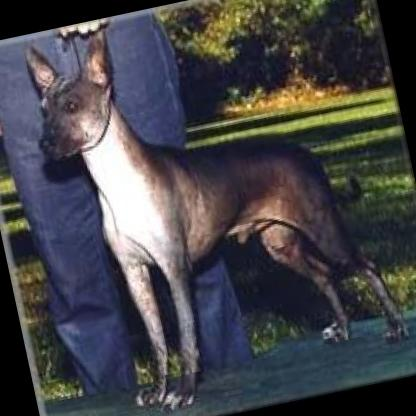Mexican_hairless: (9, 0, 405, 412)
